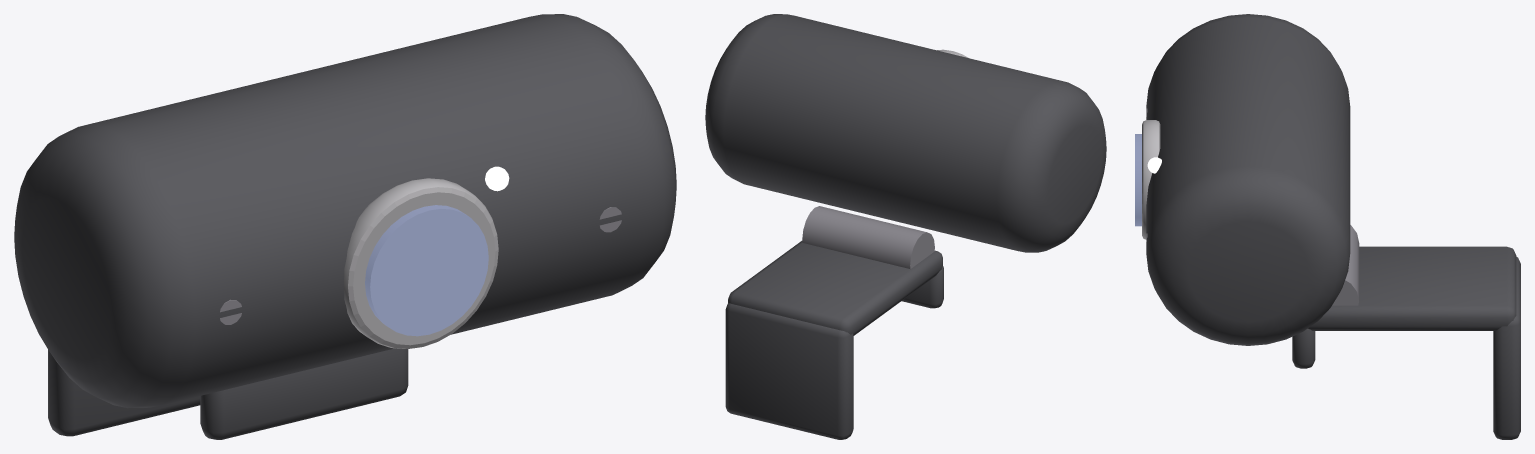
File: webcam.glb
3 views of the same model, side by side, from view 1: azimuth 30°, elevation 25°; view 2: azimuth 150°, elevation 25°; view 3: azimuth 270°, elevation 25° (orthographic). The views are drawn at different scales.
Visible parts, largest first — view 1: webcam; view 2: webcam; view 3: webcam.
Boxes of the visible parts, <box> form: webcam: <box>14,14,676,439</box>; webcam: <box>705,14,1106,439</box>; webcam: <box>1135,14,1520,439</box>.
Bounding box in the file's own units: 0.094 × 0.076 × 0.0835.
